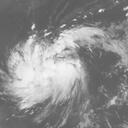cyclone: (10, 42, 81, 103)
